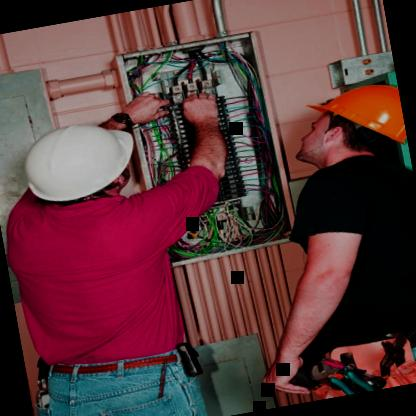helmet: (0, 95, 175, 252), (296, 73, 412, 181)
